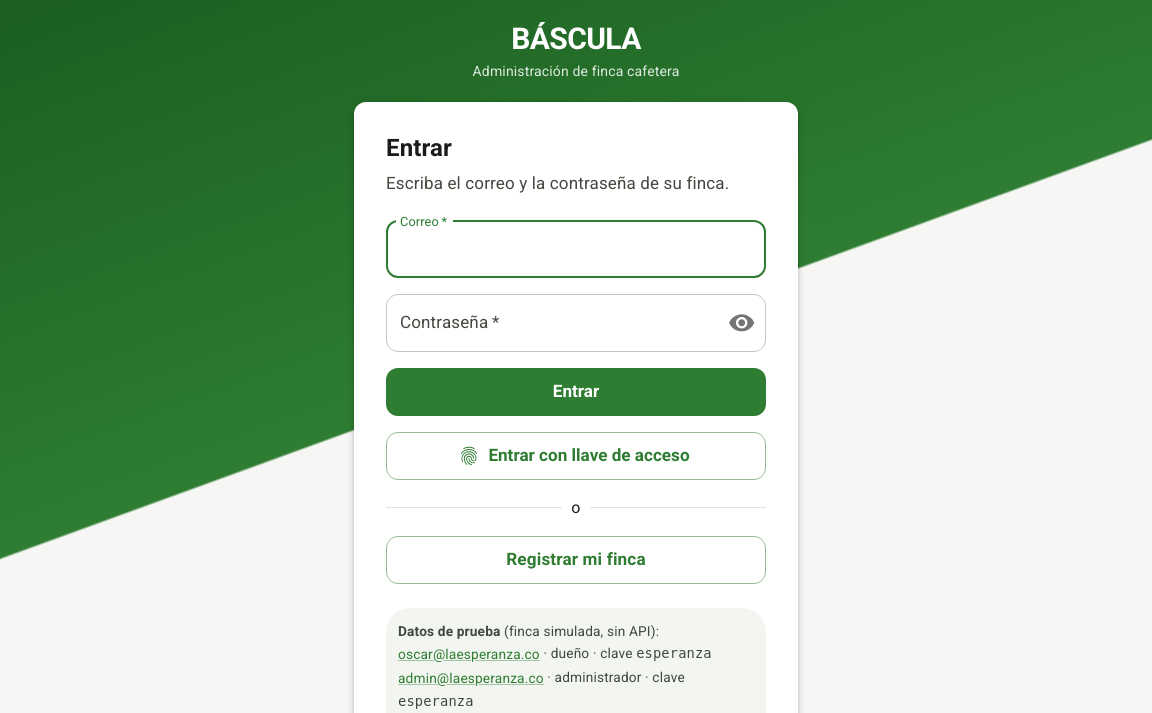
Test: a passkey that does not open this farm › points back to the password
This screenshot has width=1152, height=713.
Click the button "Entrar con llave de acceso": click(576, 456) [386,432,766,480]
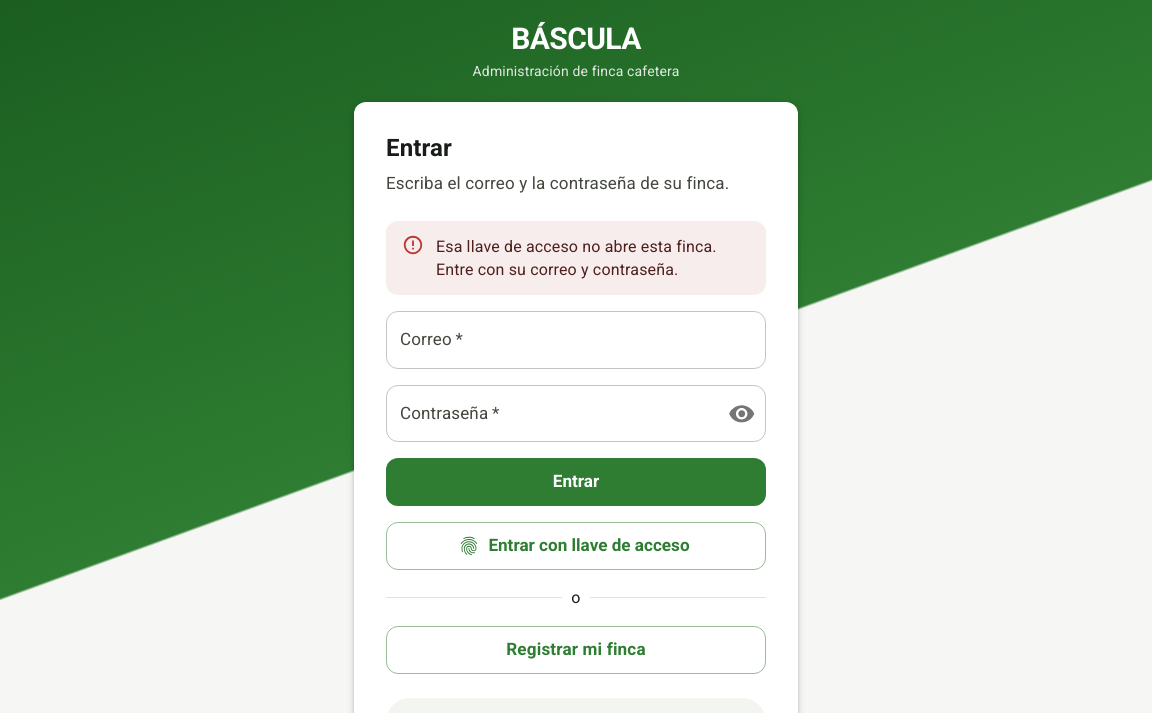
Expected: the text "Esa llave de acceso no abre esta finca" is shown, [436,237,717,279]
